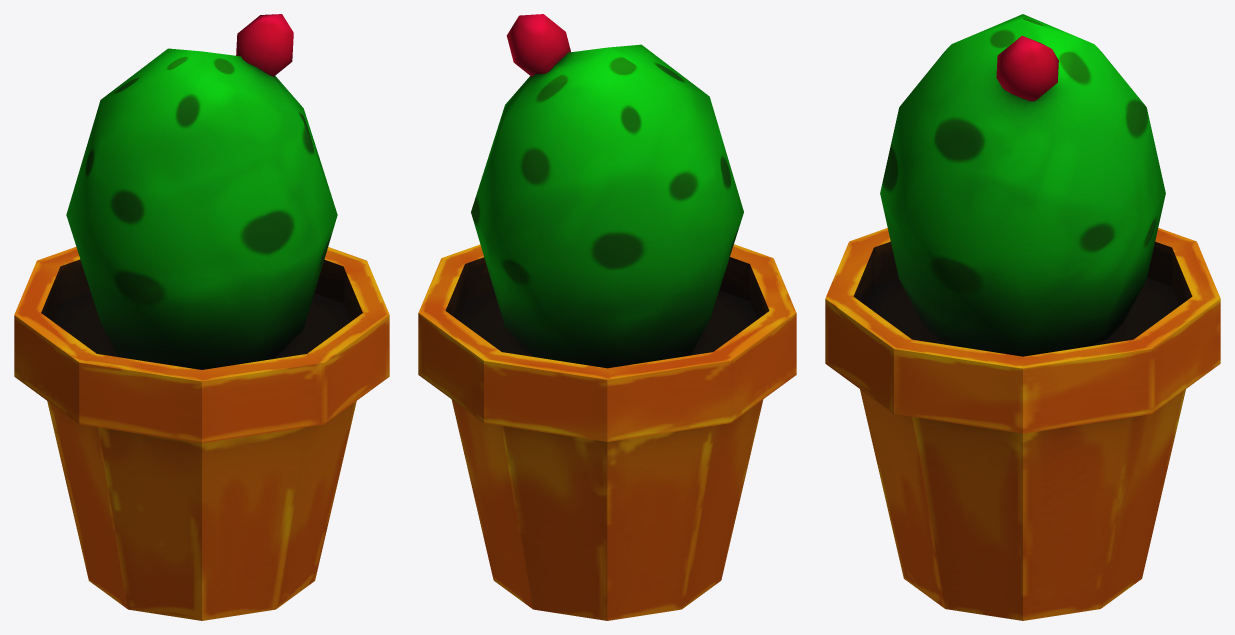
Rendered from BenchCastus.FBX.
The picture shows the model from 3 angles, left to right: view 1: azimuth 30°, elevation 25°; view 2: azimuth 150°, elevation 25°; view 3: azimuth 270°, elevation 25°; orthographic projection. The views are drawn at different scales.
Parts seen in each view (by area): view 1: plantMrCactus; view 2: plantMrCactus; view 3: plantMrCactus.
Boxes of the visible parts, x1,y1,x2,y2 form: plantMrCactus: (14,14,389,620); plantMrCactus: (418,14,796,620); plantMrCactus: (825,14,1220,620).
Bounding box in the file's own units: 10.69 × 17.18 × 10.86.
1 material, 1 textured.
